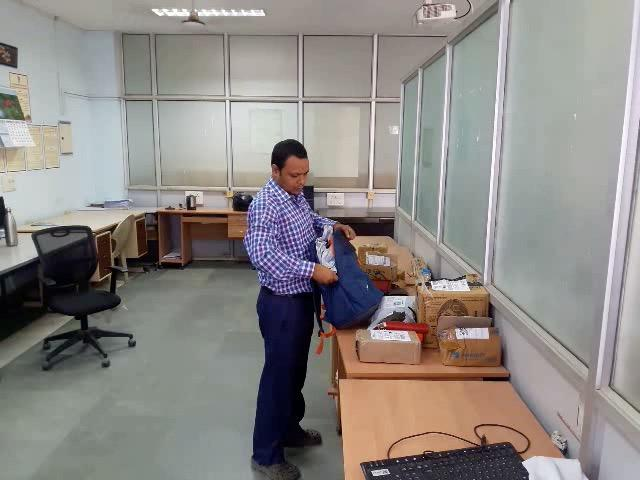shoplifting: (186, 193, 411, 329)
